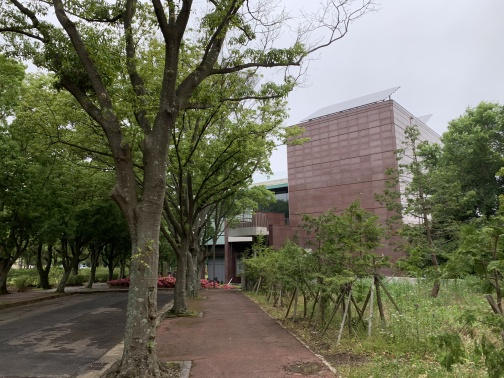Museum: (223, 102, 437, 303)
